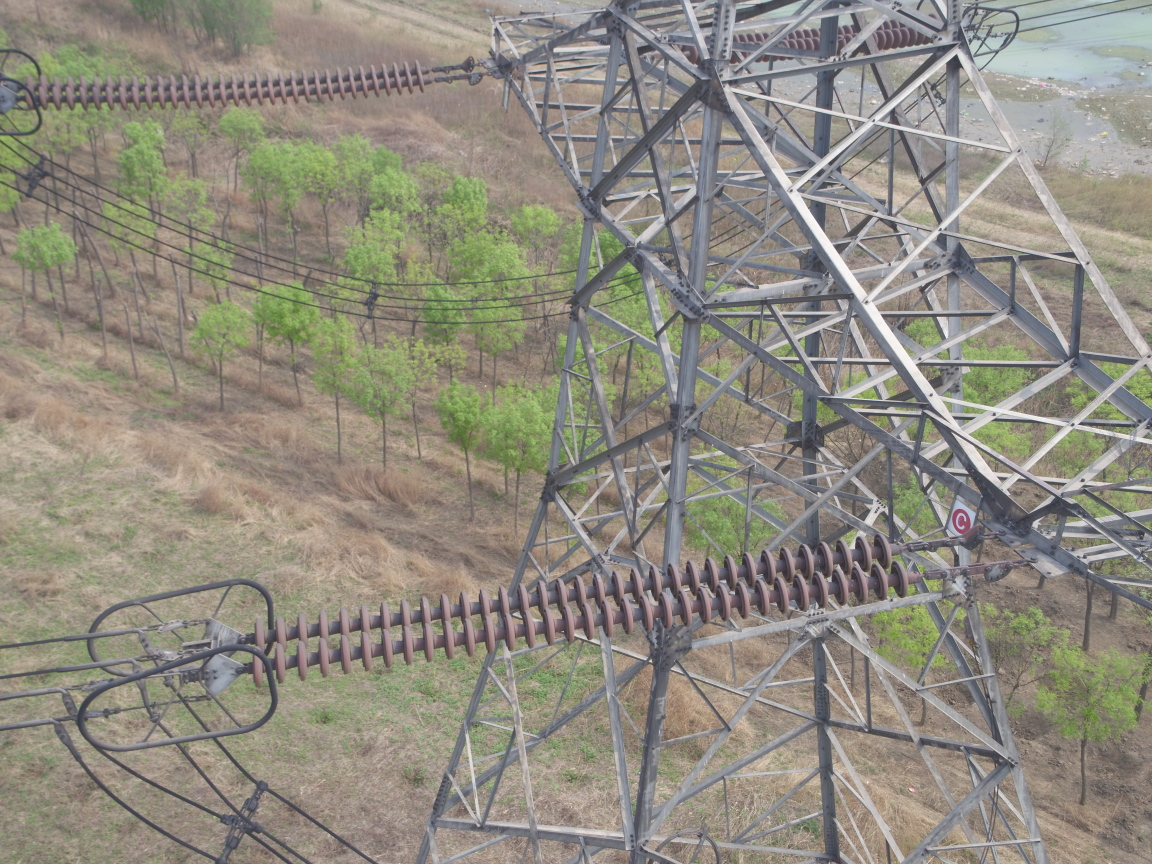insulator: (230, 529, 940, 689), (8, 57, 450, 113), (733, 22, 927, 61)
